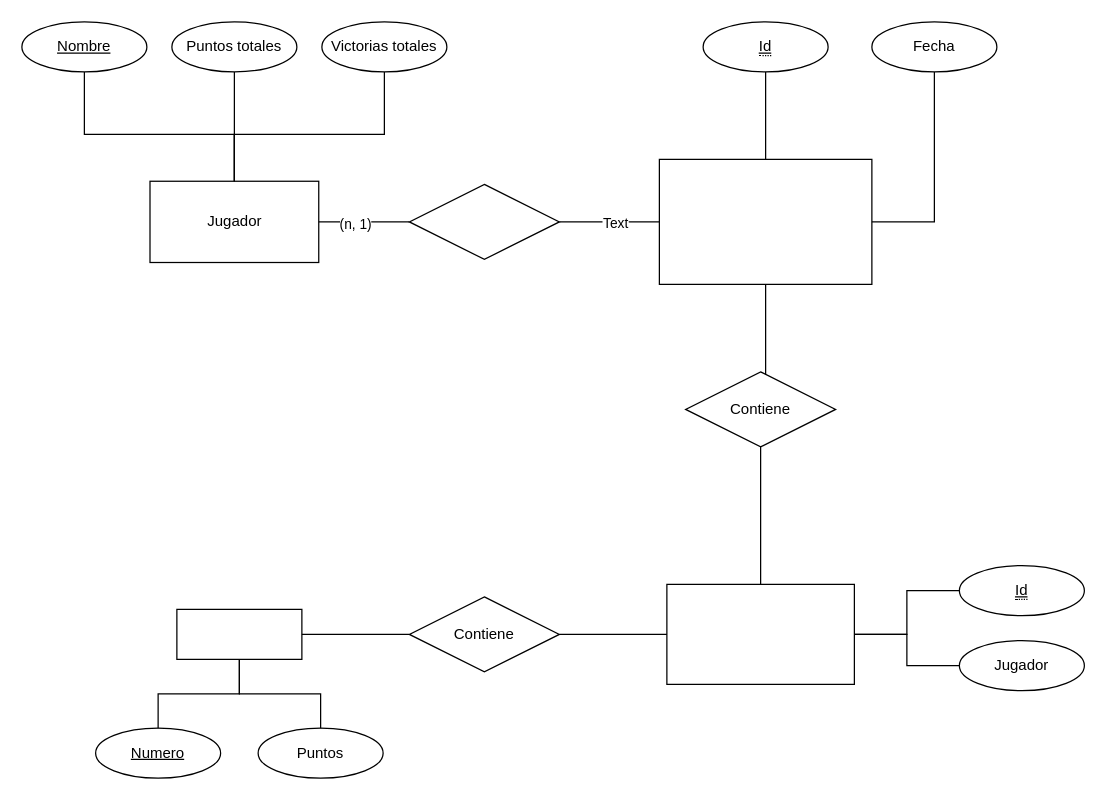
This 1106x800 diagram has some shape labels left out. The centre of each missing label's shape, as x and y in pixels:
"Participa" belongs at pixel 483 221.
"Partida" belongs at pixel 765 221.
"Partida_Indicidual" belongs at pixel 760 633.
"Ronda" belongs at pixel 239 633.
